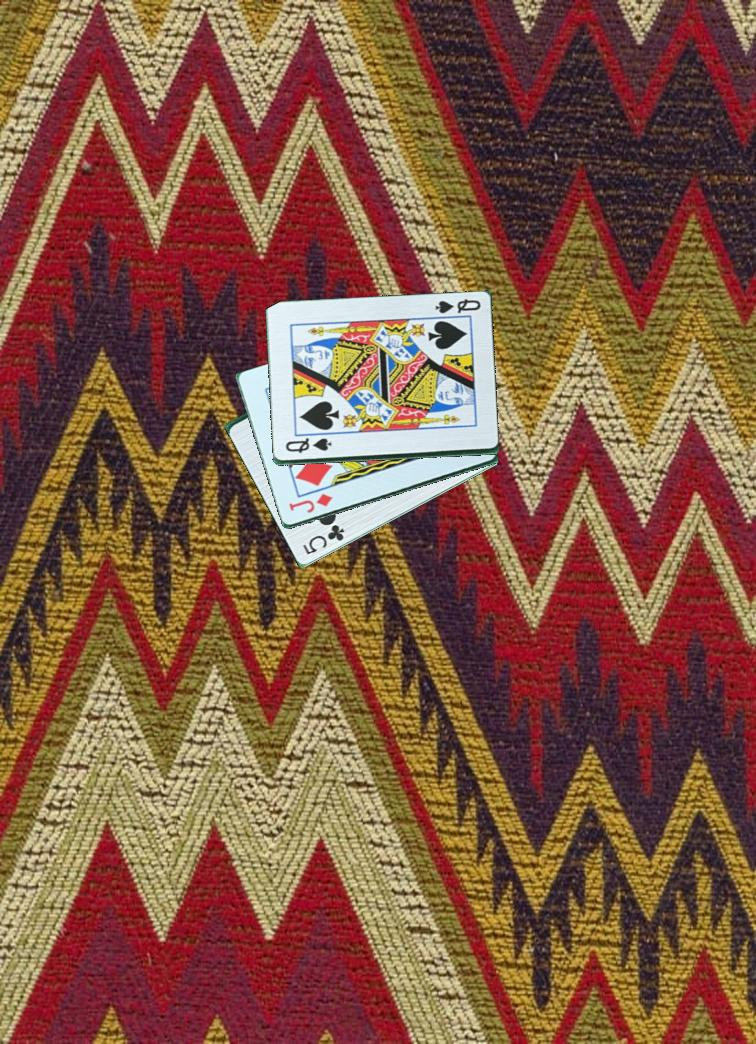5c: (299, 521, 350, 558)
jd: (285, 490, 335, 516)
qs: (431, 296, 483, 317), (281, 436, 334, 456)
